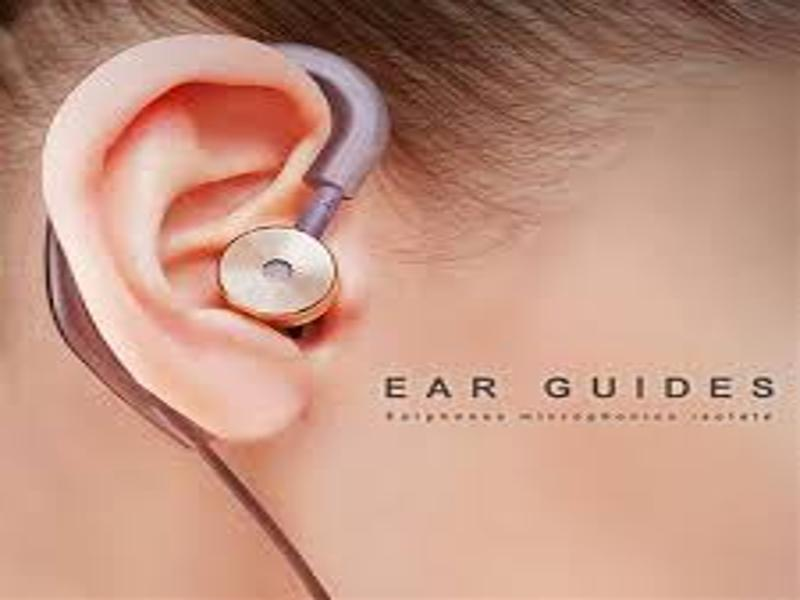headphone: (215, 225, 343, 330)
